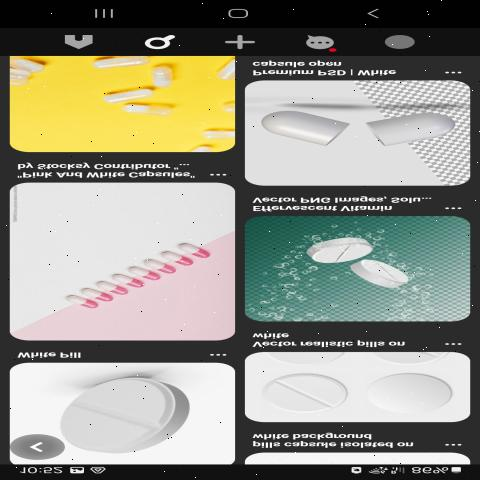Pill: (47, 368, 218, 459), (260, 362, 360, 418), (364, 363, 465, 417), (344, 255, 430, 297), (307, 229, 383, 268), (98, 85, 160, 106)
